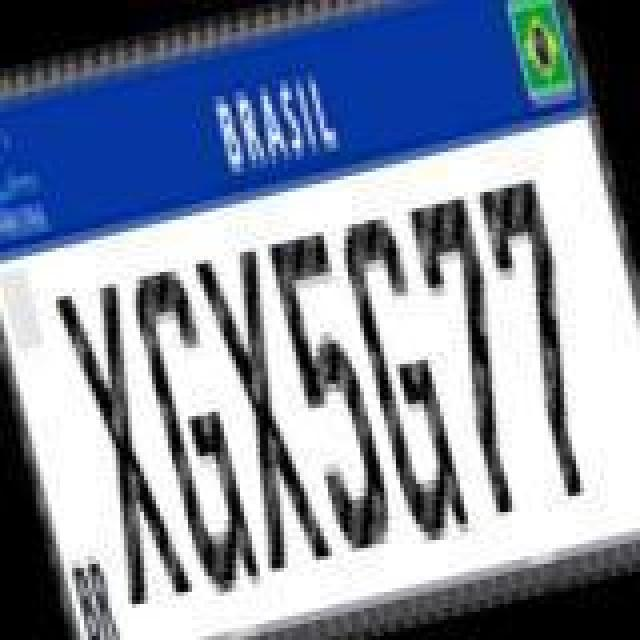5: (268, 226, 404, 558)
7: (474, 168, 614, 504), (406, 194, 546, 526)
G: (332, 204, 476, 548), (122, 260, 262, 604)
X: (50, 280, 198, 616), (192, 242, 336, 574)
